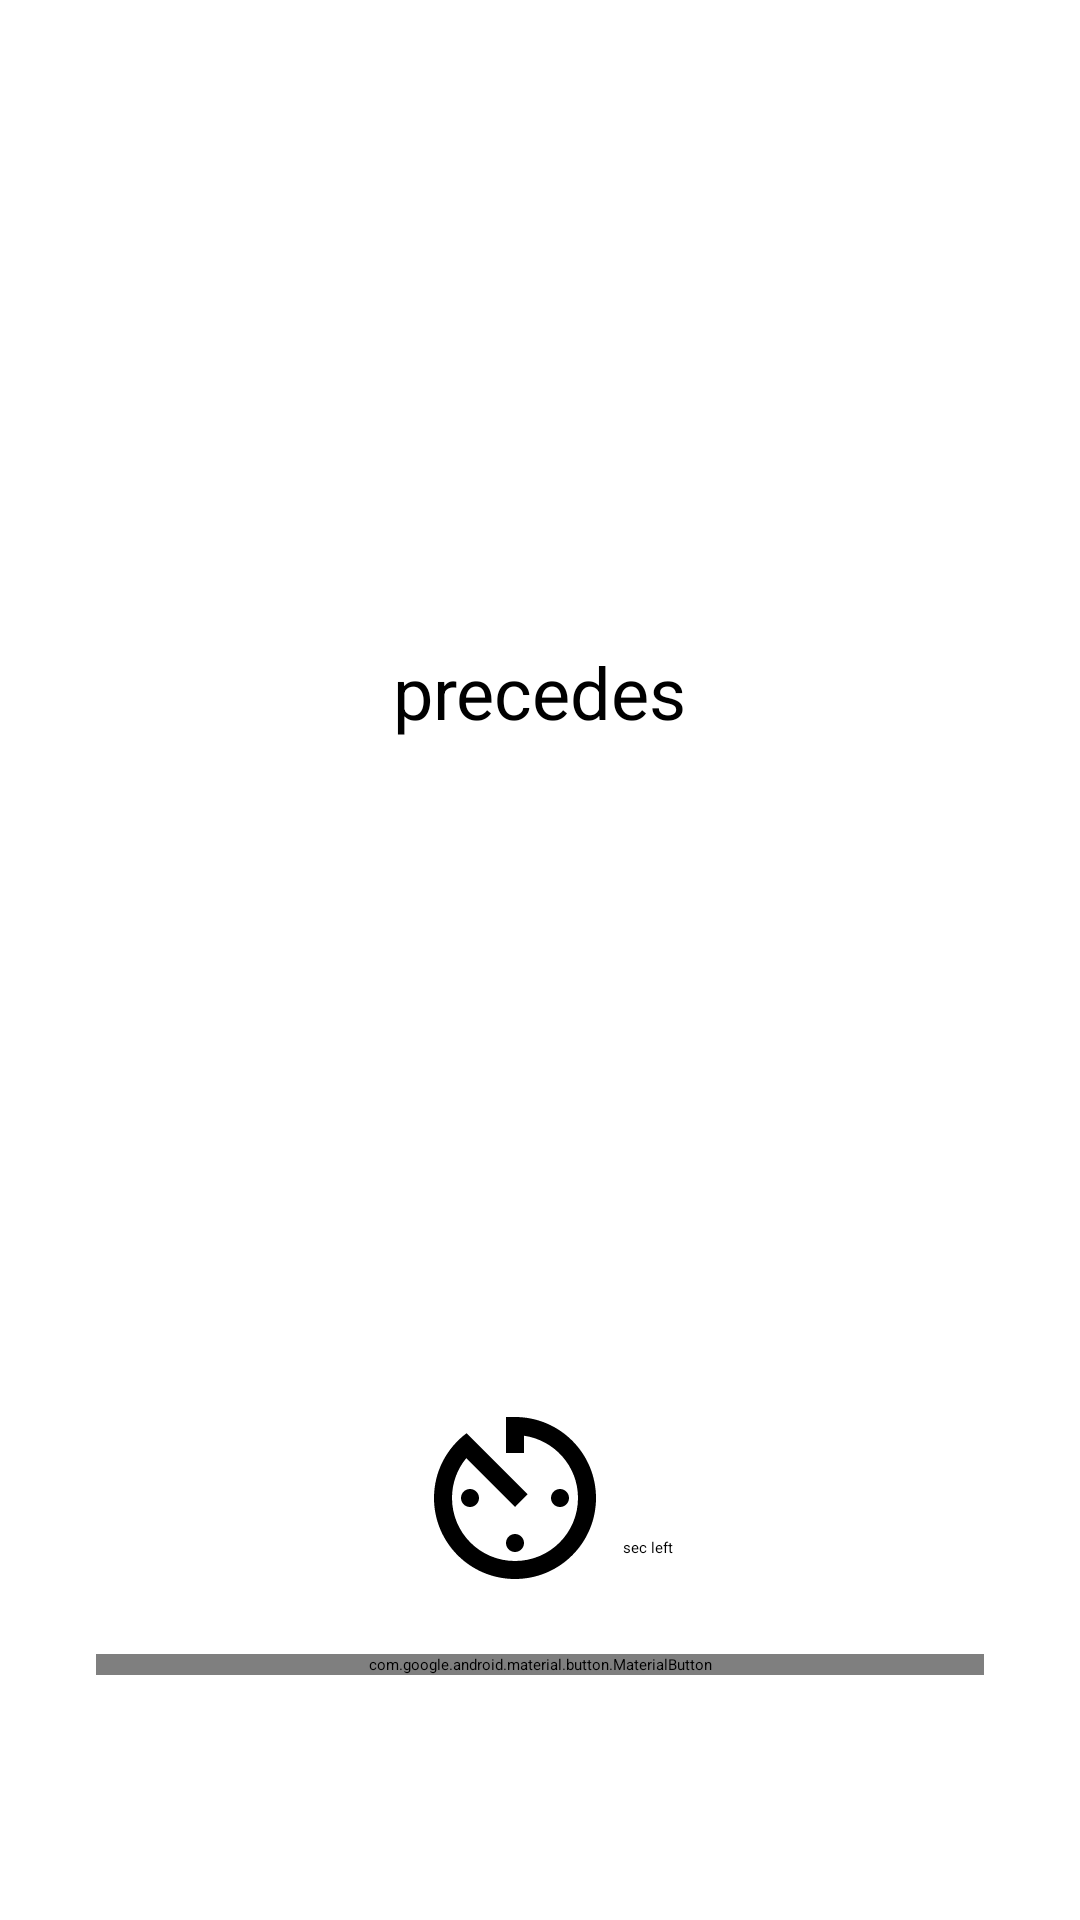

Screen size 1080 × 1920. Icon name, then its center in pixels as [x,y]:
timer: [515,1498]
